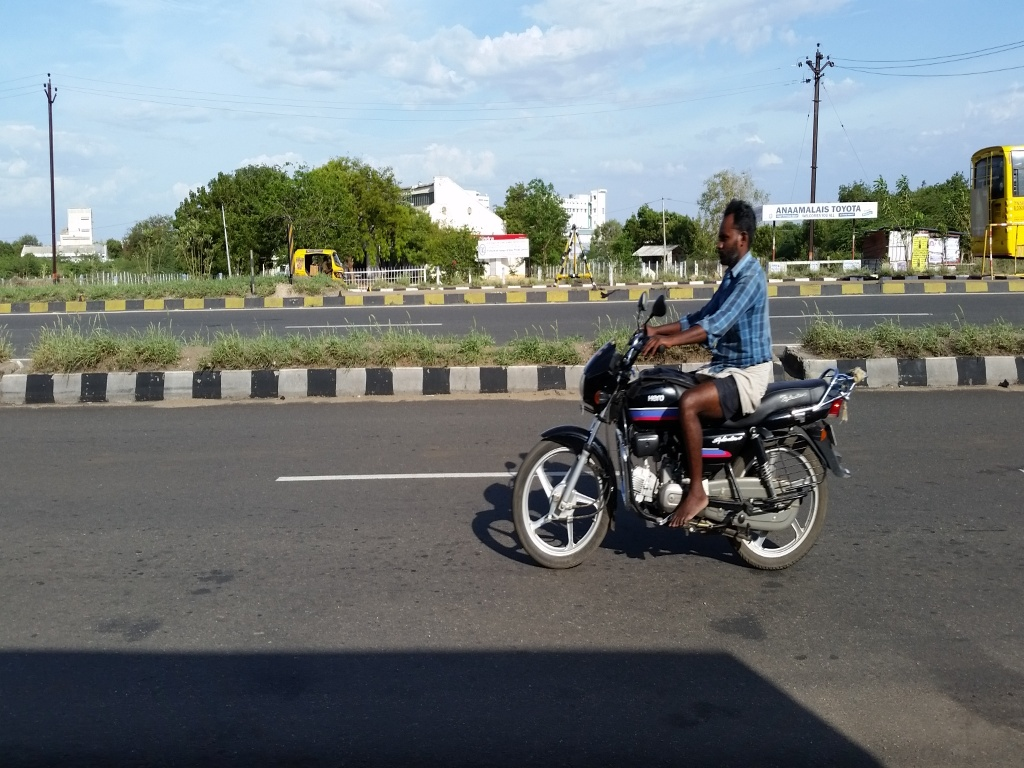biker: (473, 171, 875, 584)
nohelmet: (705, 185, 768, 288)
